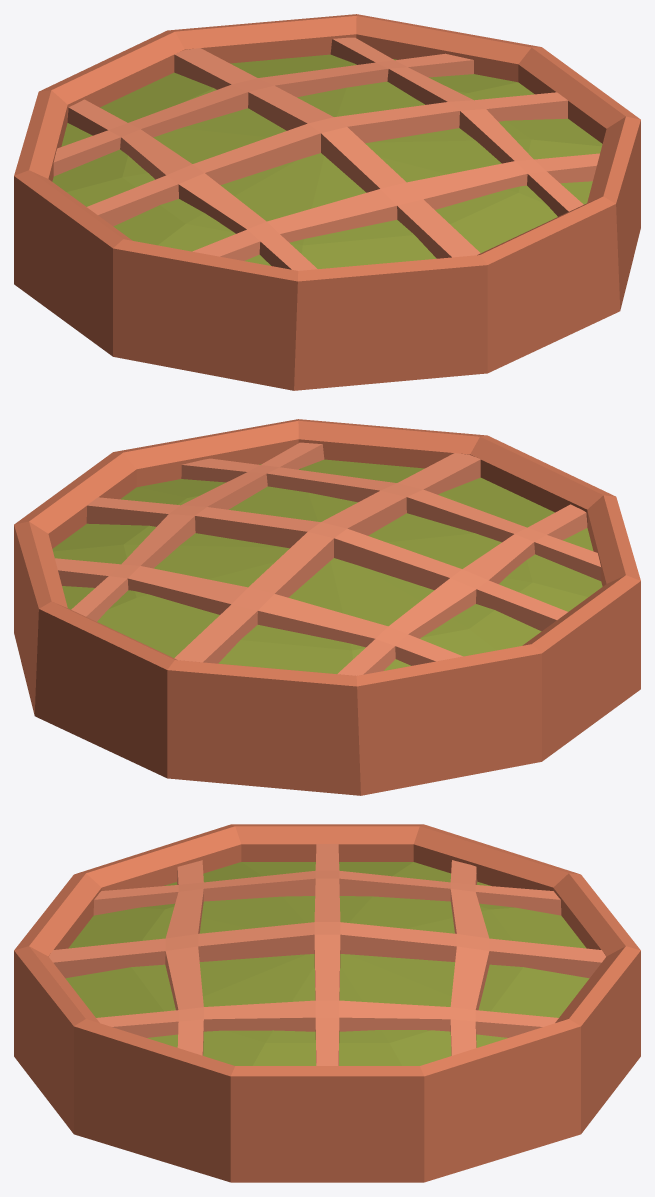
File: SM_Food_Pie_05.fbx
The picture shows the model from 3 angles, top to bottom: view 1: azimuth 30°, elevation 25°; view 2: azimuth 150°, elevation 25°; view 3: azimuth 270°, elevation 25°; orthographic projection. The views are drawn at different scales.
Parts seen in each view (by area): view 1: SM_Food_Pie_05; view 2: SM_Food_Pie_05; view 3: SM_Food_Pie_05.
Boxes of the visible parts, x1,y1,x2,y2 form: SM_Food_Pie_05: (14,14,640,390); SM_Food_Pie_05: (14,419,640,795); SM_Food_Pie_05: (14,824,640,1182).
Size of the model in its own units: 0.2567 by 0.0608 by 0.2699.
